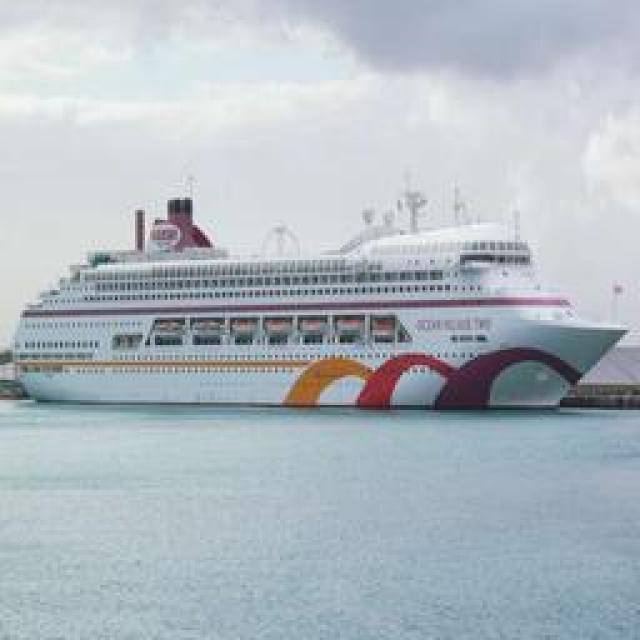CIV_Ship: (19, 202, 624, 412)
